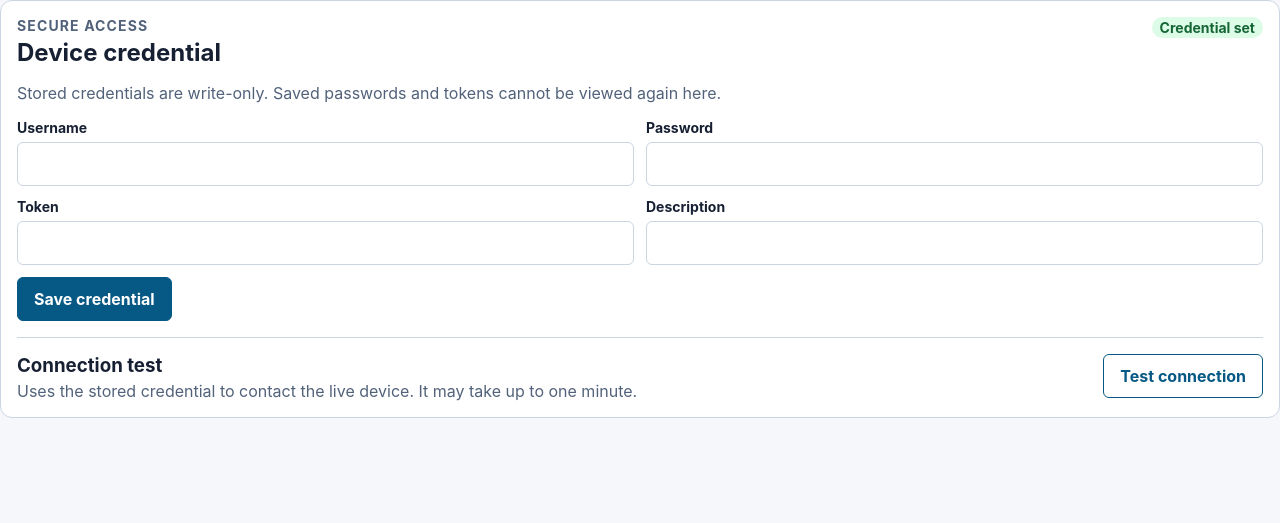
Test case: CredentialPanel › requires an explicit confirmation before overwriting an existing credential
The width and height of the screenshot is (1280, 523).
Expected: the text "Credential set" is shown, [1152,17,1263,38]
Type "new-secret" into the password field labelled "Password" at [954, 164], box [646,142,1263,186]
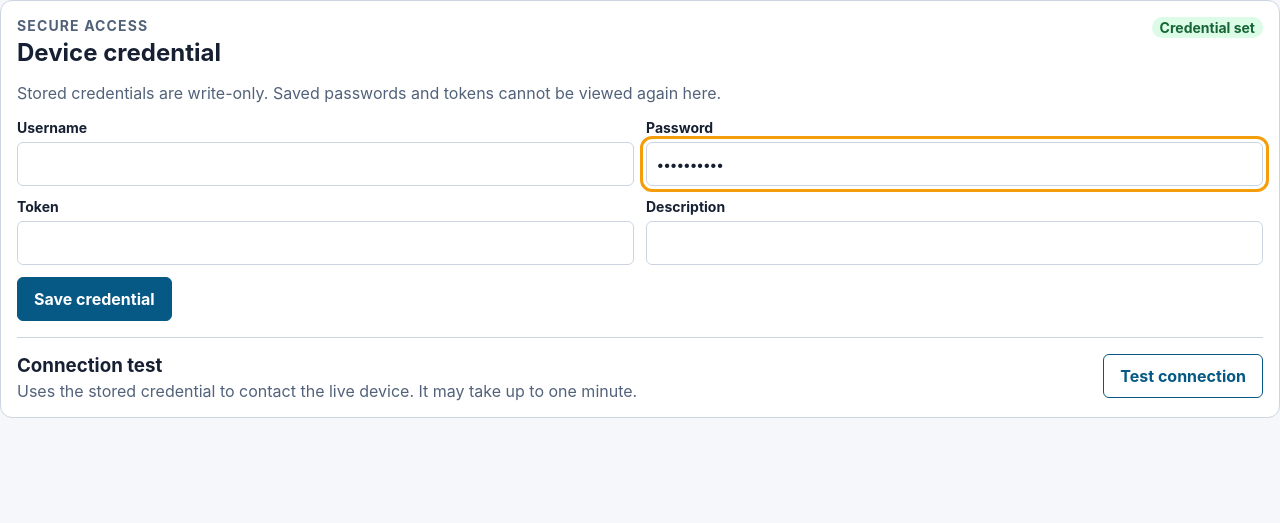
Click the button "Save credential" at [94, 299], box [17,277,172,321]
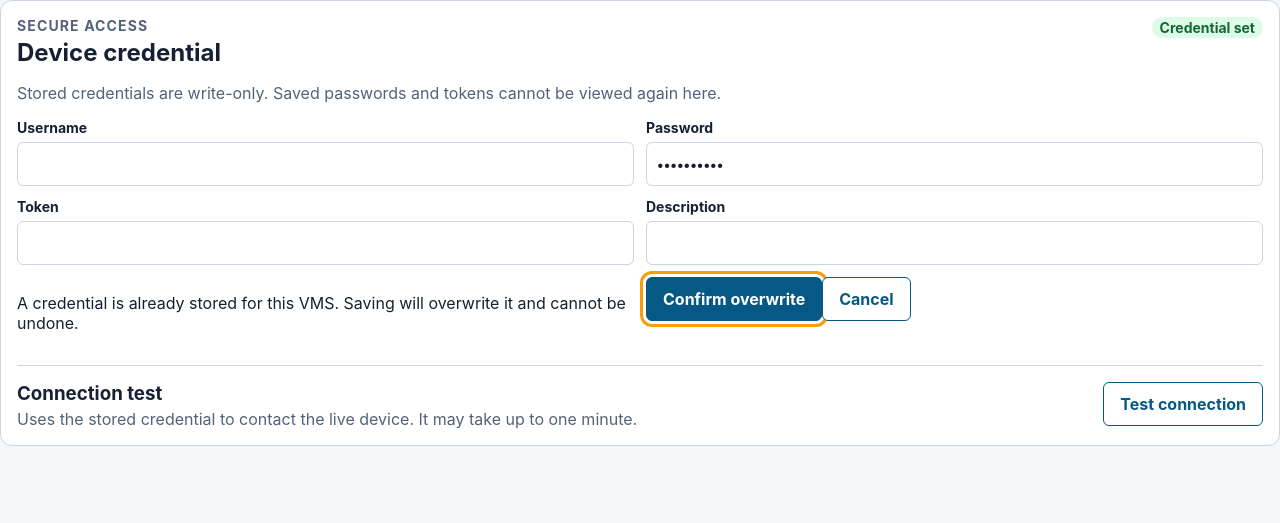
Click the button "Confirm overwrite" at [734, 299], box [646,277,822,321]
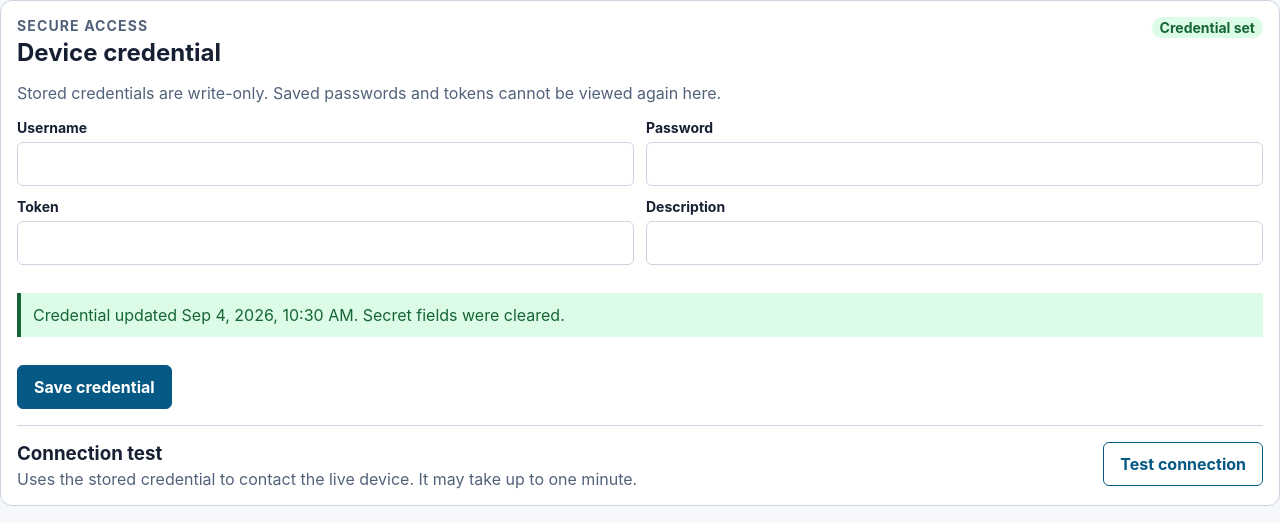
Expected: the text "Credential updated Sep 4, 2026, 10:30 AM. Secret fields were cleared." is shown, [17,293,1263,337]
